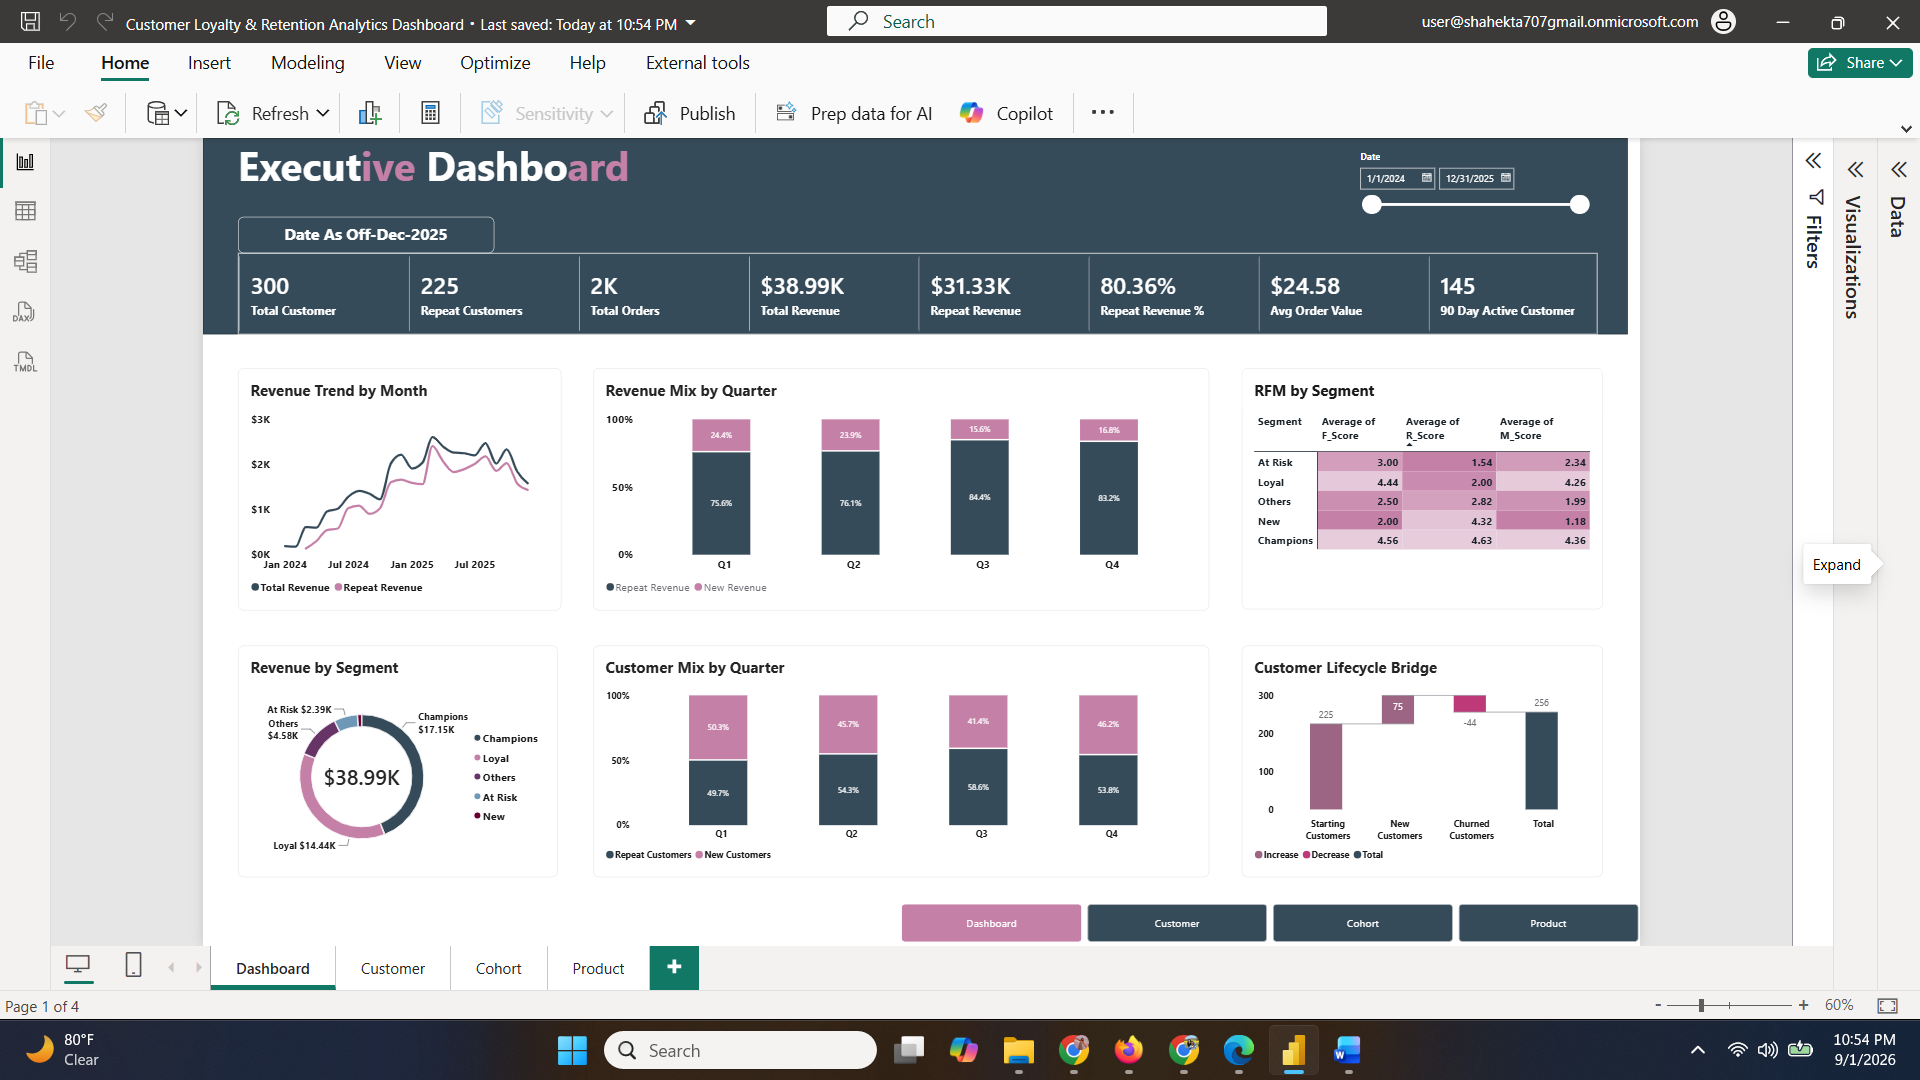

Layout of this report page (visuals, bound fields, positions):
{"tool":"powerbi","page":{"name":"Dashboard","canvas":[1920,1080],"ordinal":0},"visuals":[{"type":"shape","box":[0,0,1903.5,262.2],"z":0},{"type":"textbox","box":[46.8,0,585.4,88.3],"z":1000},{"type":"cardVisual","fields":{"Data":["_Measures.Total Customer","_Measures.Repeat Customers","Dim_Customers.Total Orders","_Measures.Total Revenue","_Measures.Repeat Revenue","_Measures.Repeat Revenue %","_Measures.Avg Order Value","_Measures.90 Day Active Customer"]},"box":[46.8,153.6,1823.4,108.5],"z":2000},{"type":"card","fields":{"Values":["_Measures.Data As of"]},"box":[46.8,104.5,342.3,48.4],"z":3000},{"type":"hundredPercentStackedColumnChart","title":"Revenue Mix by Quarter","fields":{"Category":["Dim_Date.Year","Dim_Date.Quarter","Dim_Date.Month Short"],"Y":["_Measures.Repeat Revenue","_Measures.New Revenue"]},"box":[520.5,308,823.1,324.2],"z":4000},{"type":"lineChart","title":"Revenue Trend by Month","fields":{"Category":["Dim_Date.YearMonth"],"Y":["_Measures.Total Revenue","_Measures.Repeat Revenue"]},"box":[46.8,308,432.3,324.2],"z":5000},{"type":"pivotTable","title":"RFM by Segment","fields":{"Rows":["Dim_Customers.Segment"],"Values":["Avg(Dim_Customers.F_Score)","Avg(Dim_Customers.R_Score)","Avg(Dim_Customers.M_Score)"]},"box":[1387.6,307.2,482.6,322.3],"z":6000},{"type":"donutChart","title":"Revenue by Segment","fields":{"Category":["Dim_Customers.Segment"],"Y":["_Measures.Total Revenue"]},"box":[46.8,677.2,426.9,309.8],"z":7000},{"type":"hundredPercentStackedColumnChart","title":"Customer Mix by Quarter","fields":{"Category":["Dim_Date.Year","Dim_Date.Quarter","Dim_Date.Month Short"],"Y":["_Measures.Repeat Customers","_Measures.New Customers"]},"box":[520.5,677.2,823.1,309.8],"z":8000},{"type":"waterfallChart","title":"Customer Lifecycle Bridge","fields":{"Category":["Bridge Category.Category"],"Y":["_Measures.Customer Bridge"]},"box":[1386.9,677.2,482.7,309.8],"z":9000},{"type":"pageNavigator","box":[933,1023,987,50.4],"z":13000},{"type":"slicer","fields":{"Values":["Dim_Date.Date"]},"box":[1537.9,16.7,317.2,96],"z":13001}]}

Visuals, with their boxes on the page's 1920x1080 design canvas (x1, y1, x2, y2). These are canvas units, not pixel positions in the 1920x1080 screenshot, which may show the page scaled, cropped or inside an application window:
shape: (x1=0, y1=0, x2=1904, y2=262)
textbox: (x1=47, y1=0, x2=632, y2=88)
cardVisual - _Measures.Total Customer x _Measures.Repeat Customers: (x1=47, y1=154, x2=1870, y2=262)
card - _Measures.Data As of: (x1=47, y1=104, x2=389, y2=153)
"Revenue Mix by Quarter" hundredPercentStackedColumnChart: (x1=520, y1=308, x2=1344, y2=632)
"Revenue Trend by Month" lineChart: (x1=47, y1=308, x2=479, y2=632)
"RFM by Segment" pivotTable: (x1=1388, y1=307, x2=1870, y2=630)
"Revenue by Segment" donutChart: (x1=47, y1=677, x2=474, y2=987)
"Customer Mix by Quarter" hundredPercentStackedColumnChart: (x1=520, y1=677, x2=1344, y2=987)
"Customer Lifecycle Bridge" waterfallChart: (x1=1387, y1=677, x2=1870, y2=987)
pageNavigator: (x1=933, y1=1023, x2=1920, y2=1073)
slicer - Dim_Date.Date: (x1=1538, y1=17, x2=1855, y2=113)
